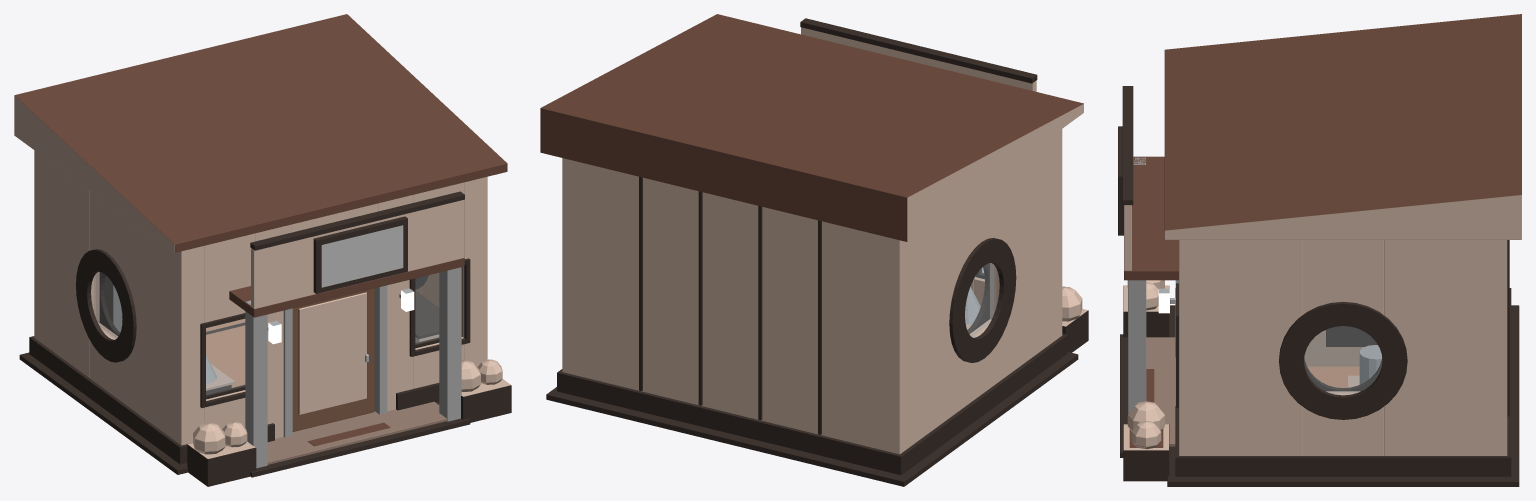
Rendered from content4_v2.glb.
3 renders of one model, left to right at view 1: azimuth 30°, elevation 25°; view 2: azimuth 150°, elevation 25°; view 3: azimuth 270°, elevation 25°, orthographic. The views are drawn at different scales.
Visible parts, largest first — view 1: SM_content4_v2_Shell, SM_content4_v2_Door, SM_content4_v2_Sign; view 2: SM_content4_v2_Shell; view 3: SM_content4_v2_Shell.
Part boxes in pixels (x1=…): SM_content4_v2_Shell: x1=14, y1=14, x2=511, y2=486; SM_content4_v2_Door: x1=292, y1=288, x2=374, y2=431; SM_content4_v2_Sign: x1=321, y1=225, x2=403, y2=287; SM_content4_v2_Shell: x1=540, y1=14, x2=1088, y2=486; SM_content4_v2_Shell: x1=1118, y1=14, x2=1521, y2=486.
Size of the model in its own units: 6.52 by 4.95 by 6.16.
